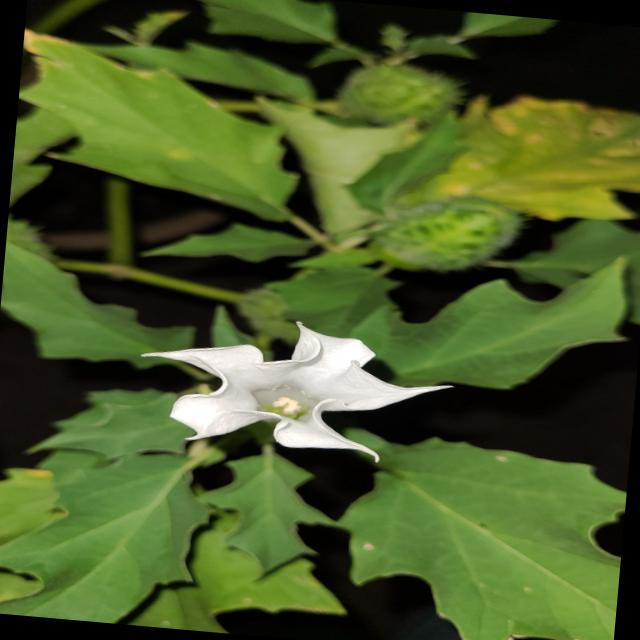Poisonous-Datura_Stramonium: (1, 4, 640, 352), (0, 415, 628, 640), (139, 313, 464, 487)
